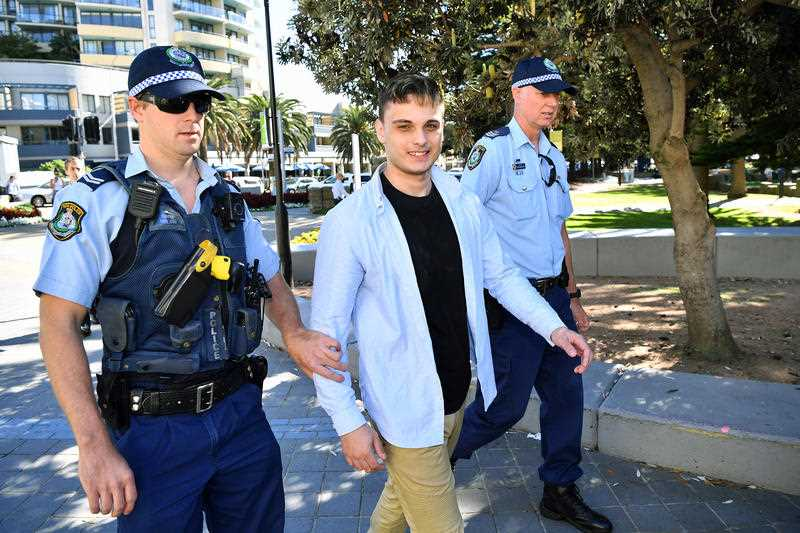Person: (34, 46, 310, 531), (311, 75, 498, 533), (485, 57, 575, 270)
